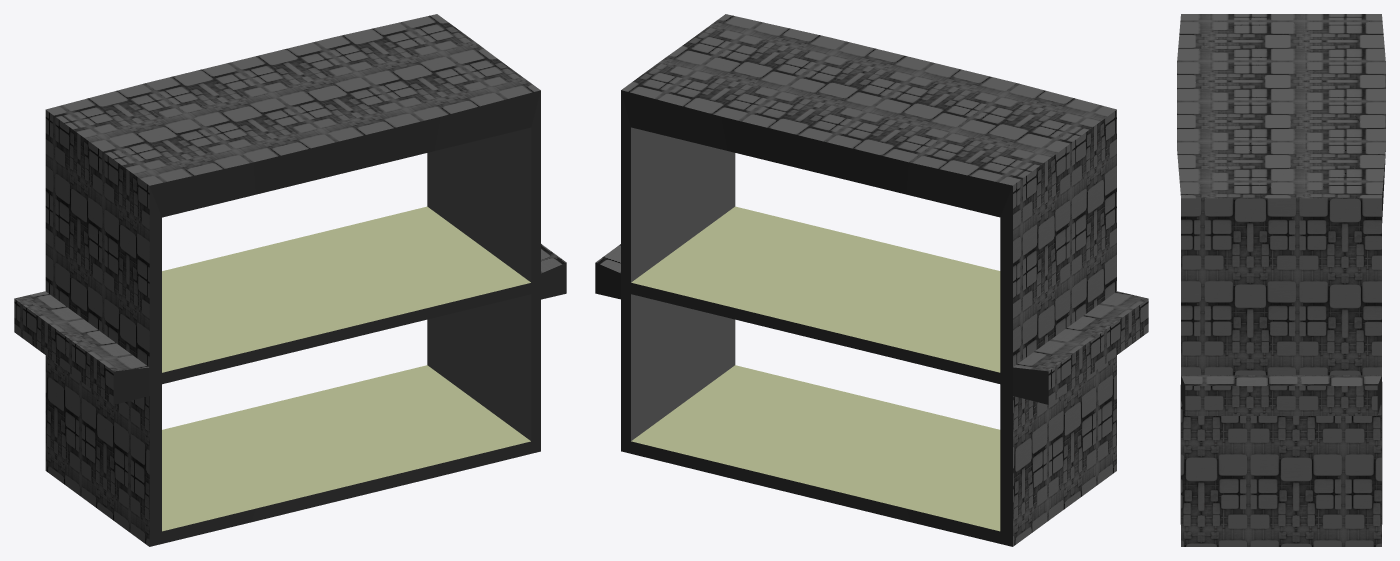
The model's file is width-Corridor-Connector.FBX.
The picture shows the model from 3 angles, left to right: view 1: azimuth 30°, elevation 25°; view 2: azimuth 150°, elevation 25°; view 3: azimuth 270°, elevation 25°; orthographic projection. The views are drawn at different scales.
Parts seen in each view (by area): view 1: width-Corridor-Connector; view 2: width-Corridor-Connector; view 3: width-Corridor-Connector.
Boxes of the visible parts, x1,y1,x2,y2 form: width-Corridor-Connector: (14, 14, 566, 546); width-Corridor-Connector: (595, 14, 1148, 546); width-Corridor-Connector: (1177, 14, 1385, 546).
Bounding box in the file's own units: 14.94 × 6.18 × 11.38.
